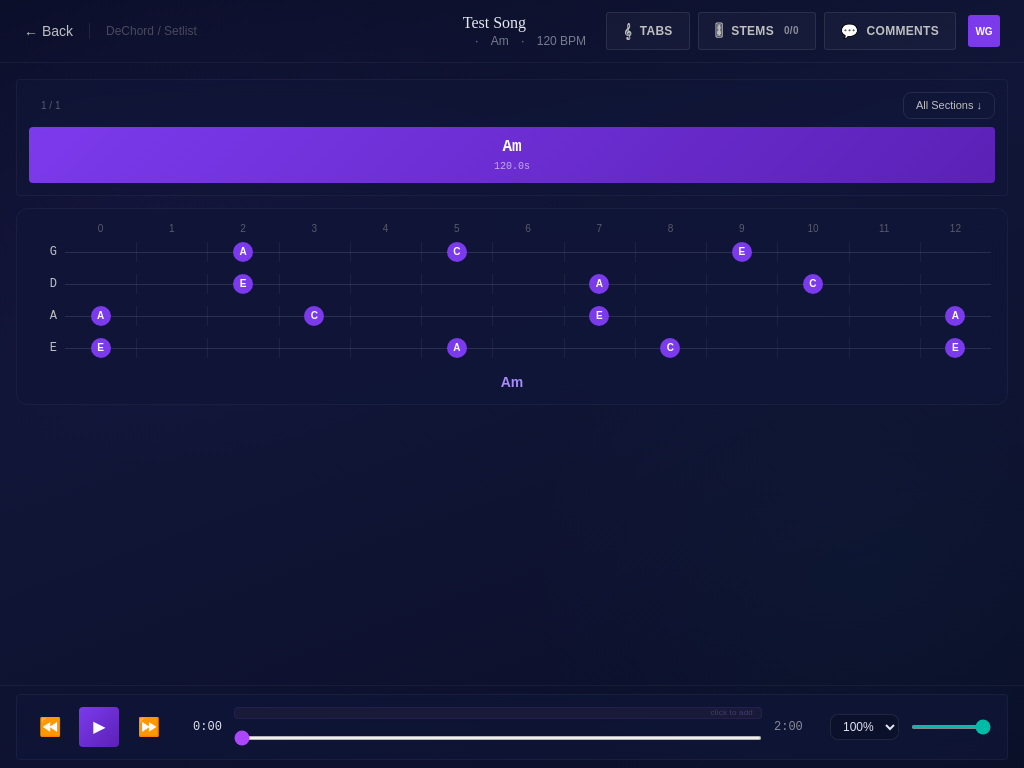
it: PlayerPage › clicking empty comment lane opens create modal with correct timestamp
Click the element with test id "comment-lane" at coordinates (498, 713), box [234,707,762,719]
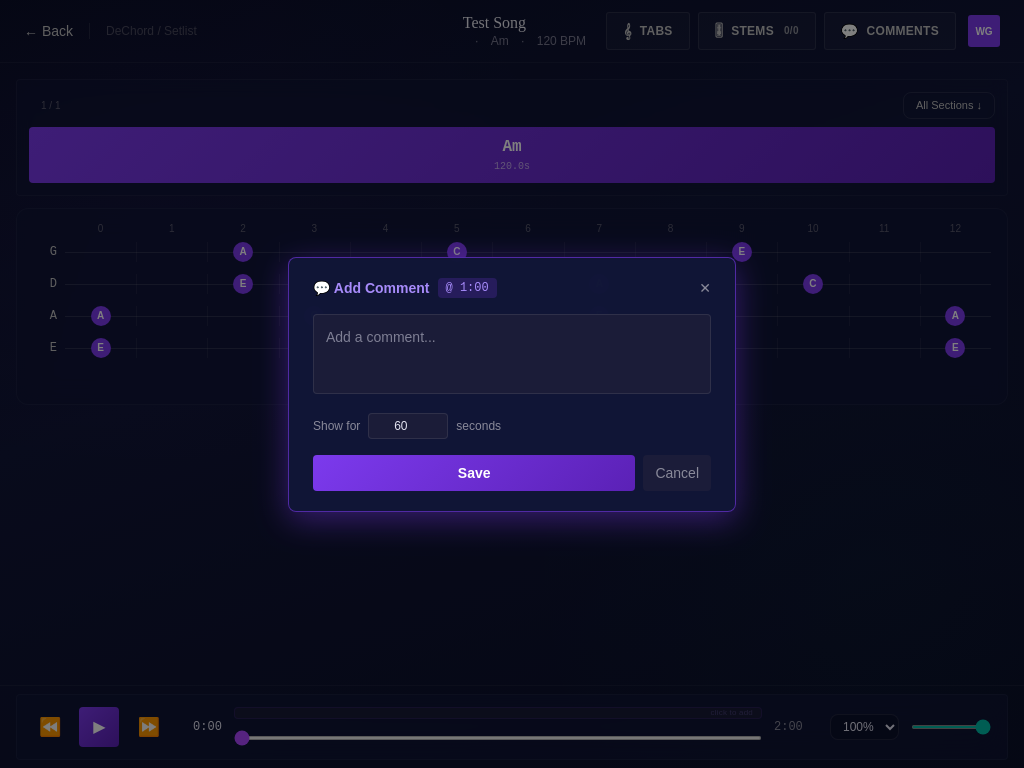
expect the text "💬 Add Comment" is shown: met, box [313,278,430,298]
expect the text "@ 1:00" is shown: met, box [438,278,497,298]
